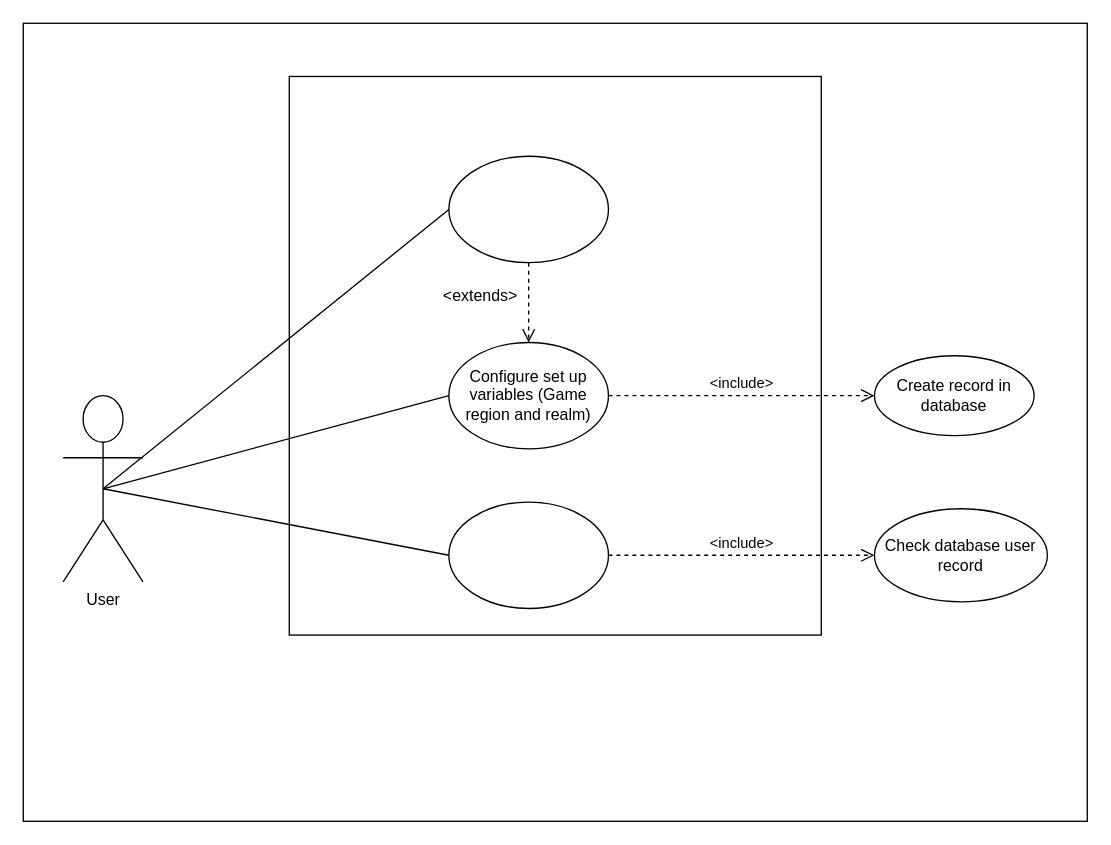
Some shapes in this 1111 by 845 pixel diagram are drawn without their labels. The centre of each missing label's shape, as x and y in pixels:
"Activate bot" belongs at (528,209).
"Run bot command" belongs at (528,554).
